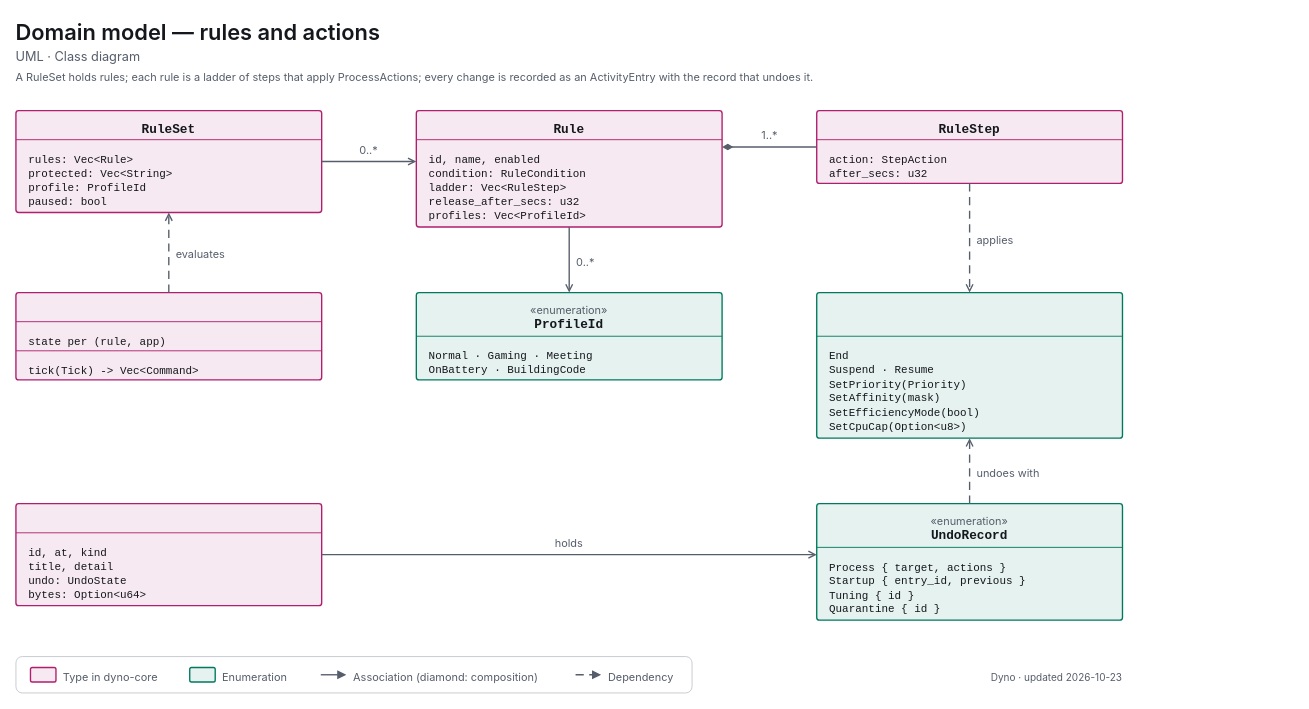
Image size: 1309x709. Some labels were removed from this diagram. Here are the shapes that lost their labels. From the top down, the box of each, then its label:
(15, 291, 322, 380): Engine
(816, 291, 1123, 438): «enumeration» ProcessAction
(15, 503, 322, 606): ActivityEntry
